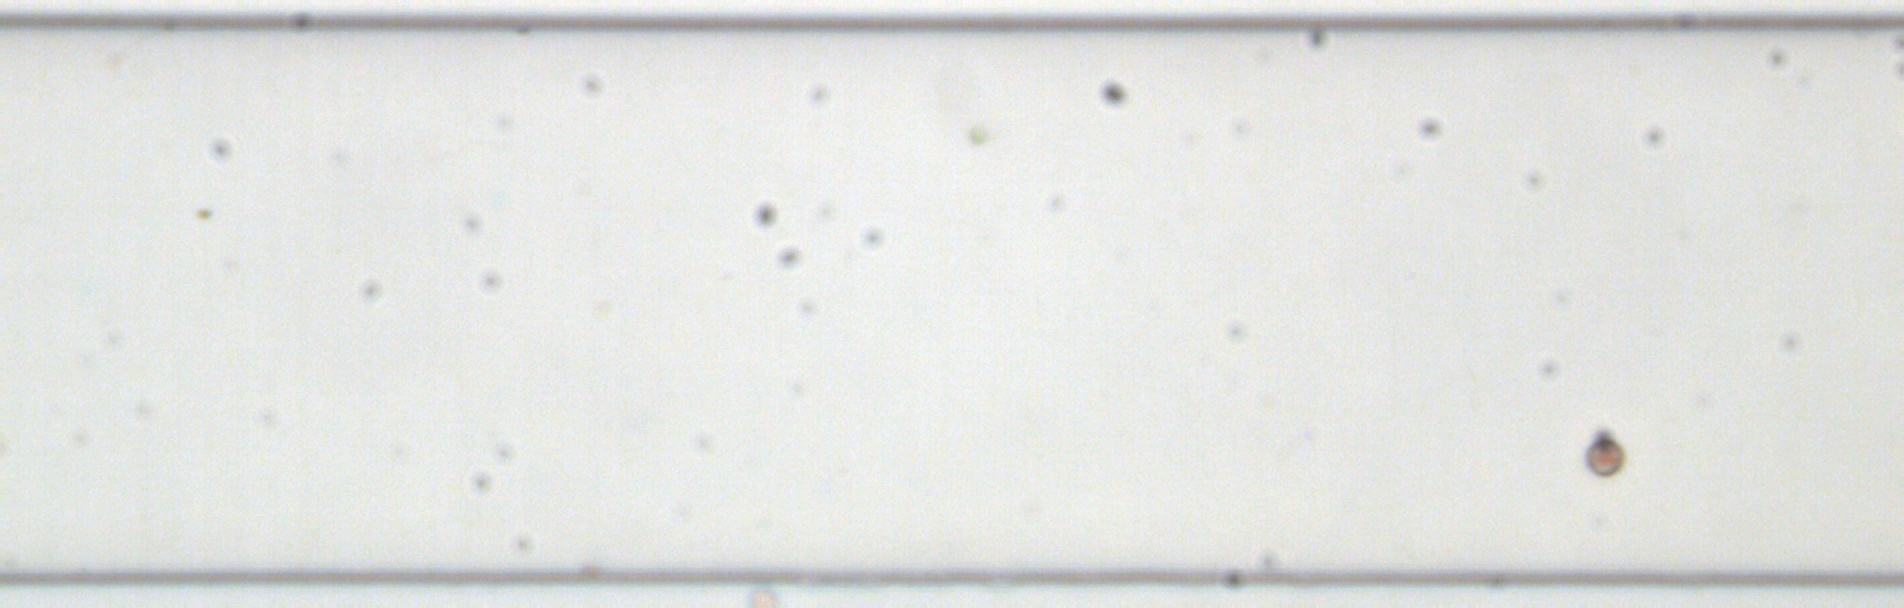Chlorella: (967, 124, 987, 146), (195, 205, 215, 222)
Porphyridium: (1582, 437, 1625, 476)
